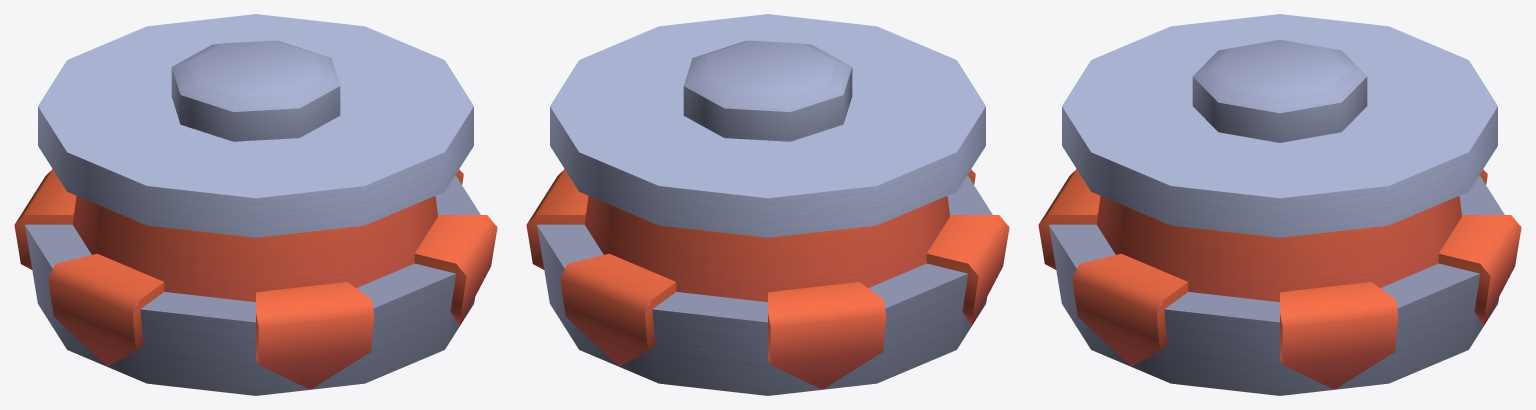
File: tower-defense-kit--tower-round-middle-a.glb
The picture shows the model from 3 angles, left to right: view 1: azimuth 30°, elevation 25°; view 2: azimuth 150°, elevation 25°; view 3: azimuth 270°, elevation 25°; orthographic projection.
Parts seen in each view (by area): view 1: tower-round-middle-a; view 2: tower-round-middle-a; view 3: tower-round-middle-a.
Boxes of the visible parts, <box> form: tower-round-middle-a: <box>14,14,497,395</box>; tower-round-middle-a: <box>526,14,1009,395</box>; tower-round-middle-a: <box>1038,14,1521,395</box>.
Size of the model in its own units: 1.11 by 0.6 by 1.11.
Materials: 1 (1 with a texture image).
